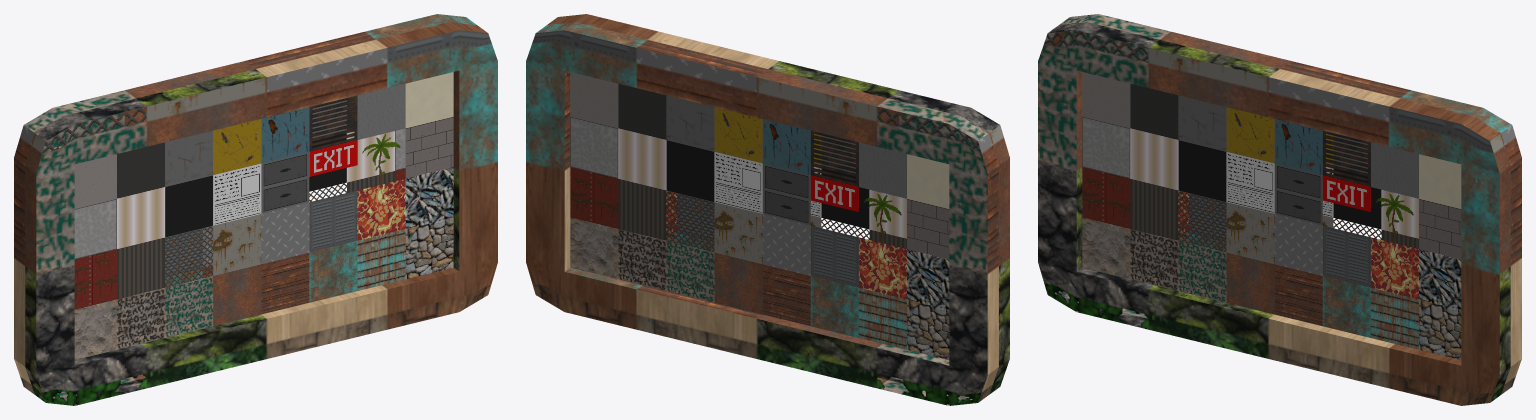
Rendered from OfficeExit.fbx.
The picture shows the model from 3 angles, left to right: view 1: azimuth 30°, elevation 25°; view 2: azimuth 150°, elevation 25°; view 3: azimuth 330°, elevation 25°; orthographic projection.
Parts seen in each view (by area): view 1: Cube.002; view 2: Cube.002; view 3: Cube.002.
Boxes of the visible parts, x1,y1,x2,y2 form: Cube.002: (14, 14, 497, 405); Cube.002: (526, 14, 1009, 405); Cube.002: (1038, 14, 1521, 405).
Bounding box in the file's own units: 0.72 × 0.42 × 0.06.
